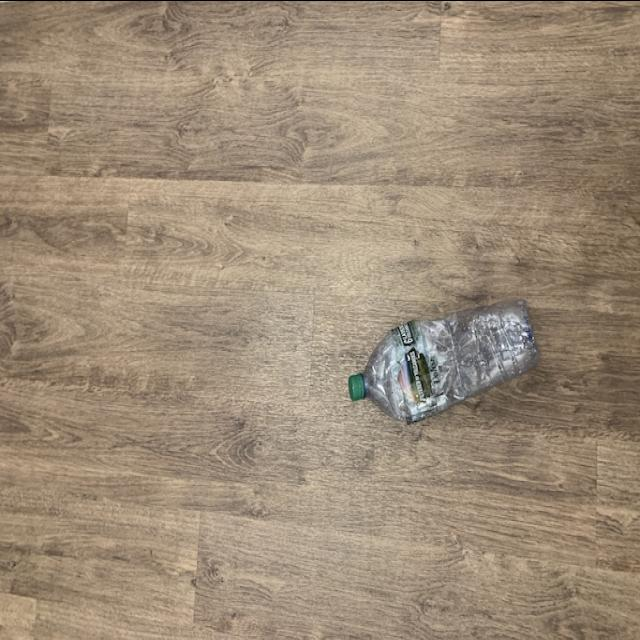PET: (350, 294, 544, 422)
